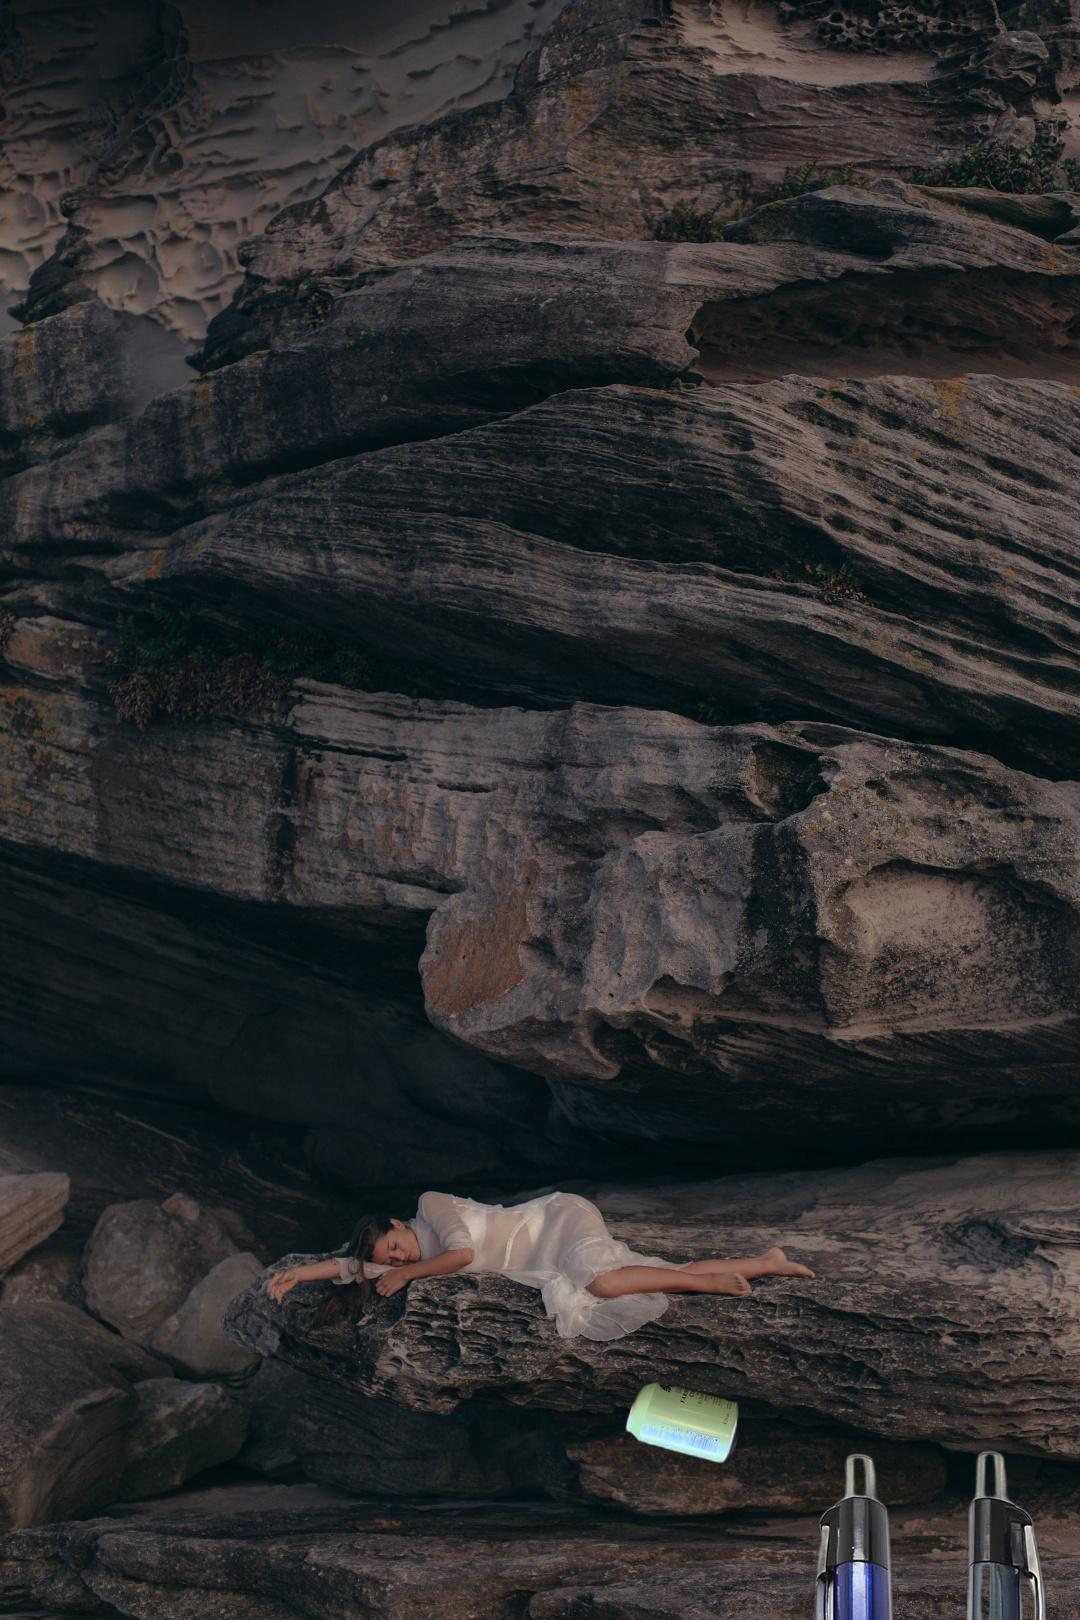metal-cans: (622, 1377, 744, 1469)
penholder: (756, 1444, 1080, 1620)
